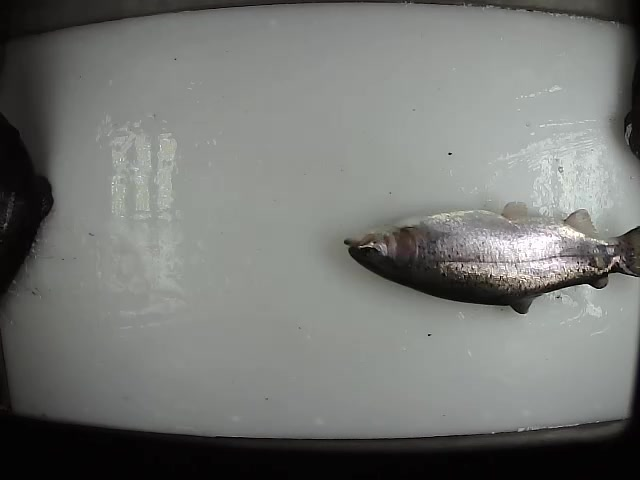fish: (342, 202, 640, 316)
